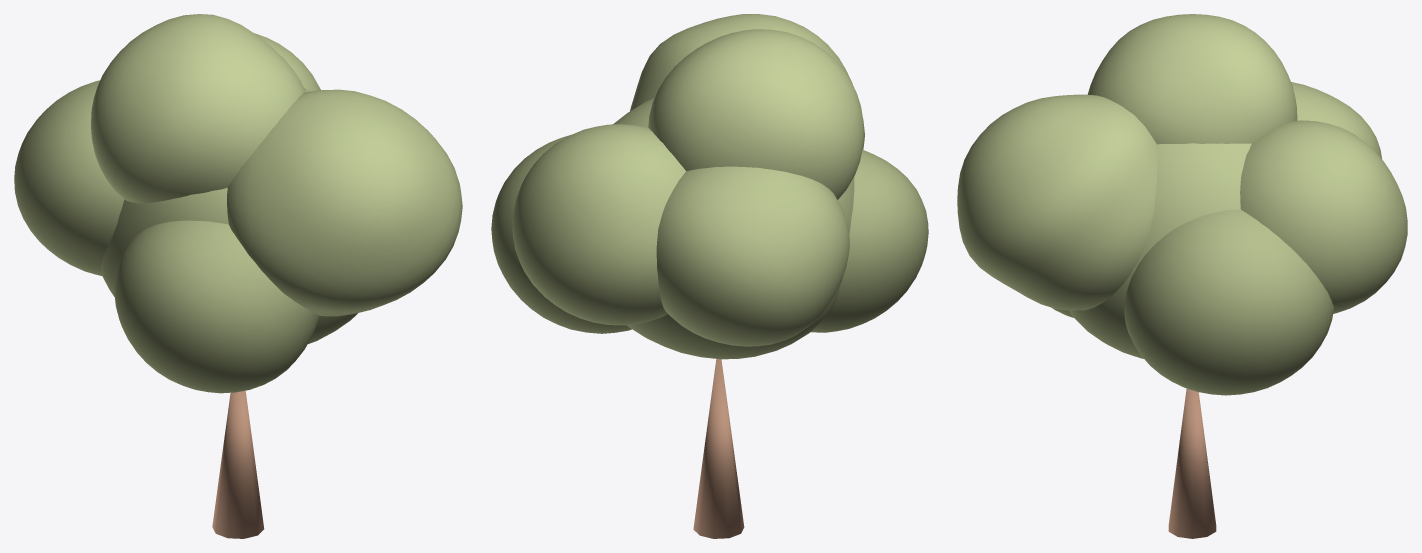
The model's file is tree_a_spring.glb.
3 views of the same model, side by side, from view 1: azimuth 30°, elevation 25°; view 2: azimuth 150°, elevation 25°; view 3: azimuth 270°, elevation 25° (orthographic). The views are drawn at different scales.
Visible parts, largest first — view 1: crown, trunk; view 2: crown, trunk; view 3: crown, trunk.
Boxes of the visible parts, box(x1,y1,x2,y2) form: crown: box(14, 14, 462, 393); trunk: box(212, 390, 264, 538); crown: box(491, 14, 928, 359); trunk: box(693, 359, 744, 538); crown: box(957, 14, 1407, 395); trunk: box(1168, 388, 1216, 538).
Bounding box in the file's own units: 5.12 × 6.88 × 5.76.
